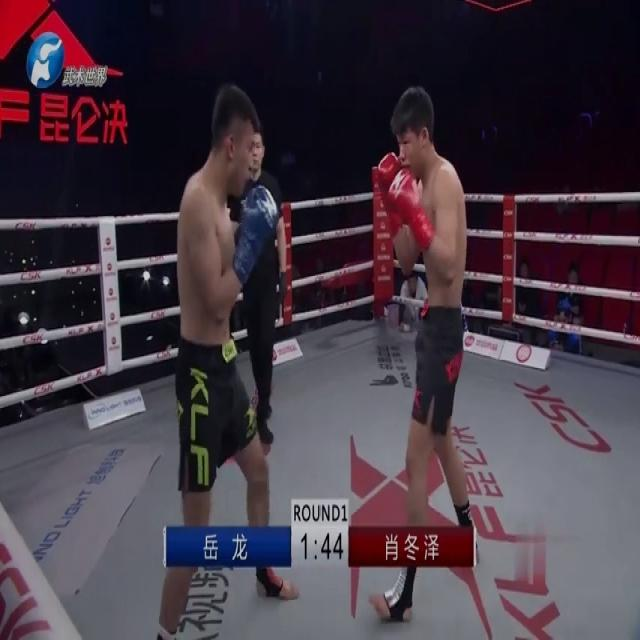fight: (152, 74, 301, 640), (368, 76, 484, 626)
non-fight: (228, 124, 294, 448)
